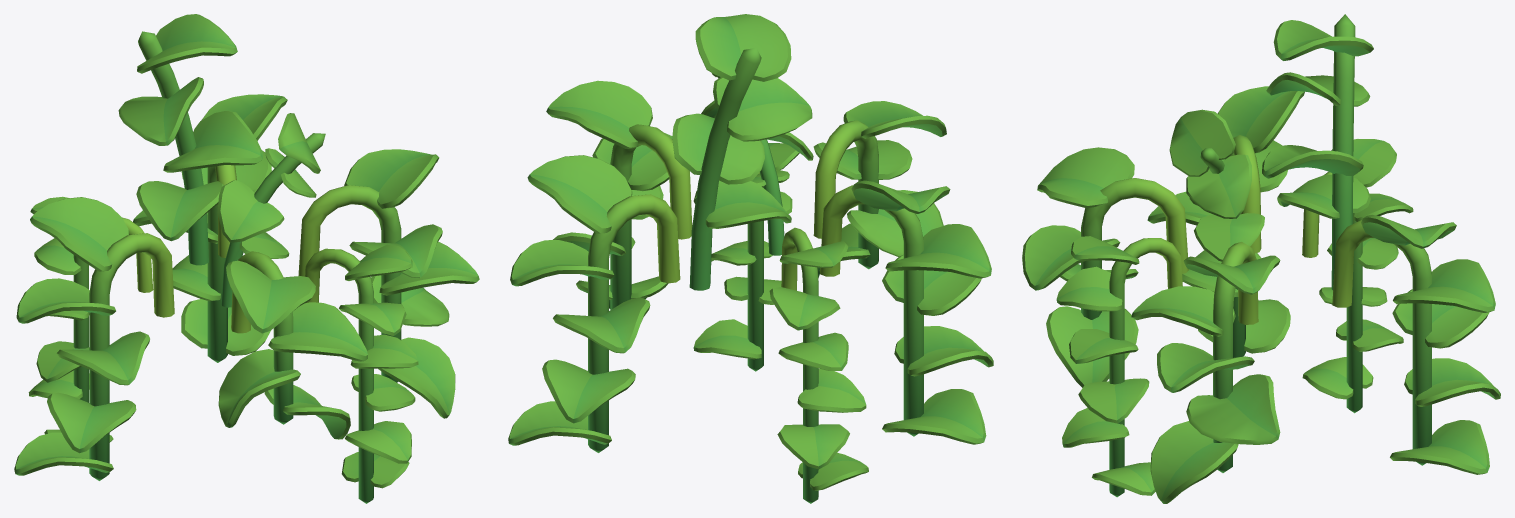
The model's file is Pothos Plant Large.glb.
The picture shows the model from 3 angles, left to right: view 1: azimuth 30°, elevation 25°; view 2: azimuth 150°, elevation 25°; view 3: azimuth 270°, elevation 25°; orthographic projection. The views are drawn at different scales.
Visible parts, largest first — view 1: pothos_plant_large; view 2: pothos_plant_large; view 3: pothos_plant_large.
Part boxes in pixels (x1,y1,x2,y2): pothos_plant_large: (14, 14, 479, 503); pothos_plant_large: (508, 14, 993, 503); pothos_plant_large: (1022, 14, 1500, 503).
Size of the model in its own units: 2.53 by 2.4 by 2.41.
1 material, 1 textured.
